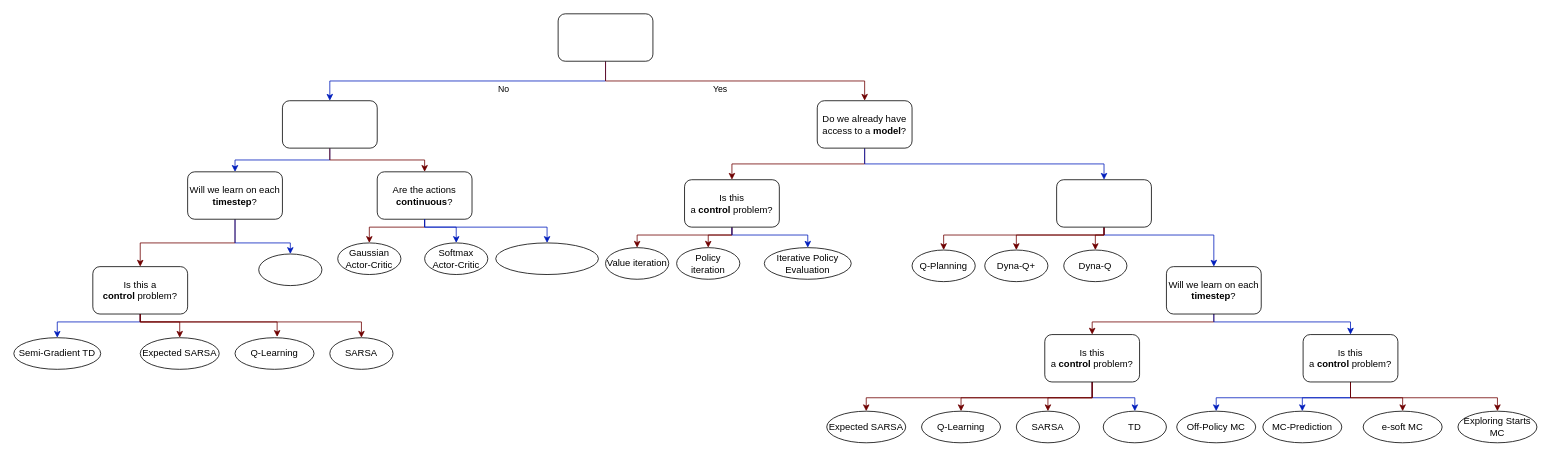
The diagram is 1551 pixels wide and 457 high, and some of its shapes have lost their labels. Here are the shapes that lost their labels. From the top down, the box of each, then its label:
(557, 13, 653, 61): Can we represent the value function with a table ?
(282, 100, 377, 148): Are we using average reward ?
(1056, 179, 1151, 227): Will we learn a model ?
(258, 253, 322, 286): Gradient Monte Carlo
(495, 242, 598, 275): Differential Semi-Gradient SARSA
